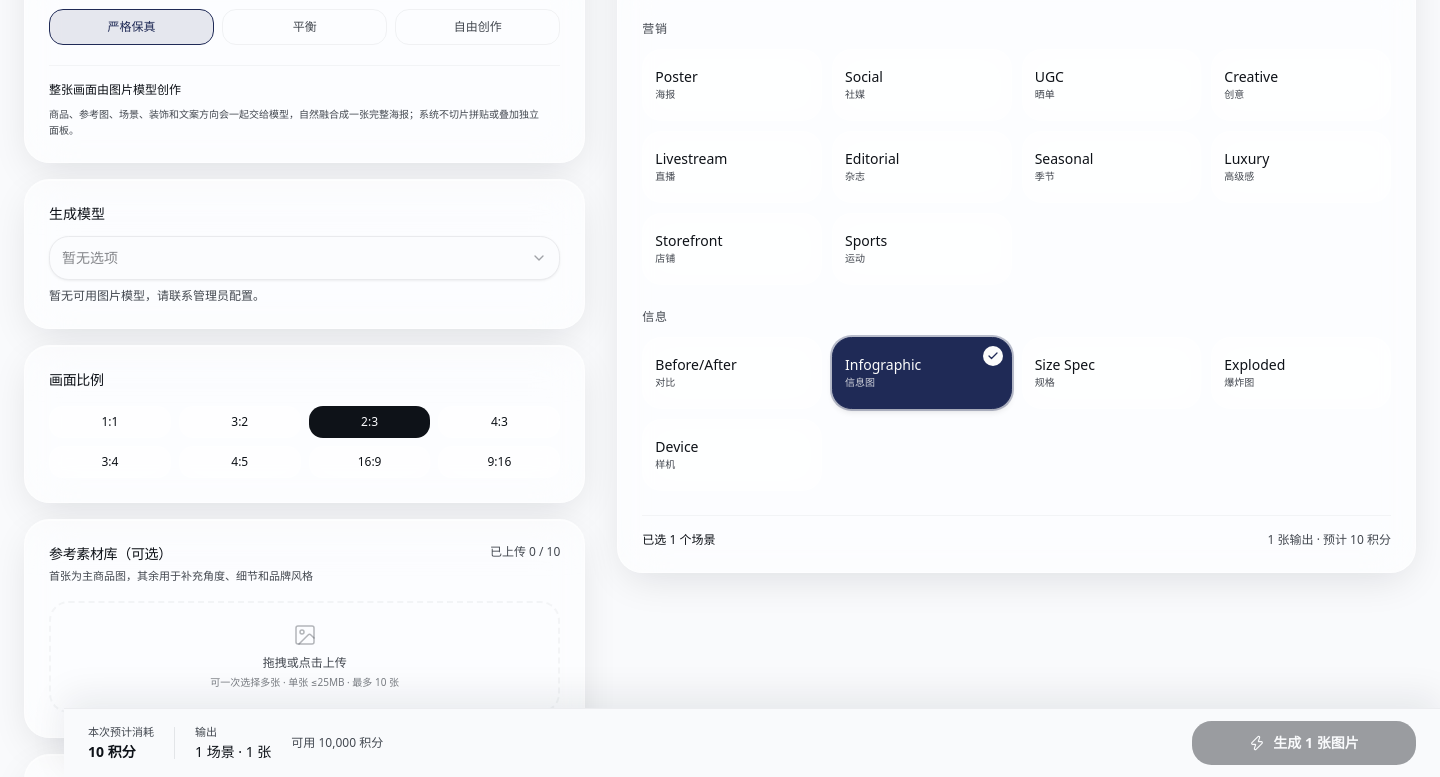
Test: EcomImagesPage interactions › clicking a selected scene removes it
(page scrolled)
Click the button with test id "scene-card" at (922, 373), box x1=832 y1=337 x2=1012 y2=409
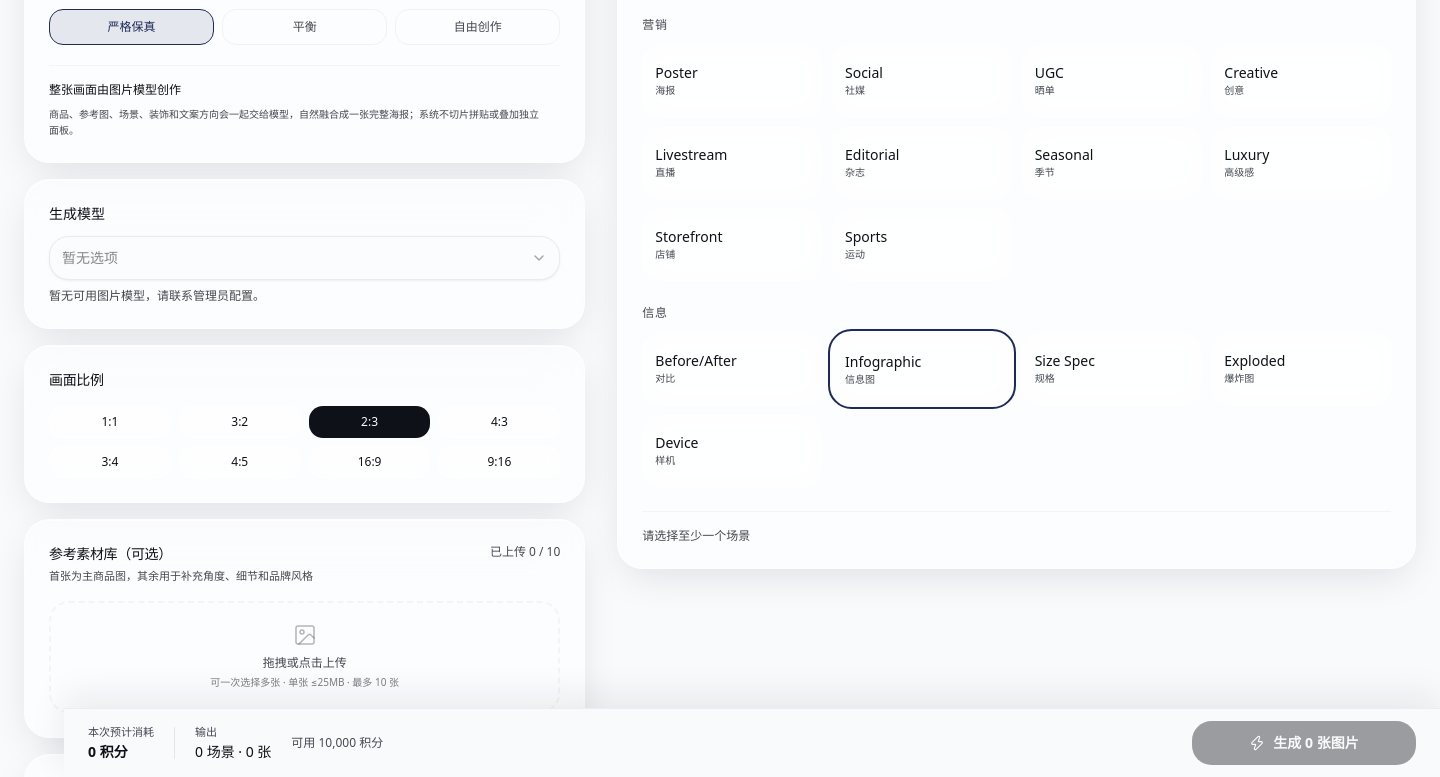
Result: the text "已选 1 个场景" is gone
